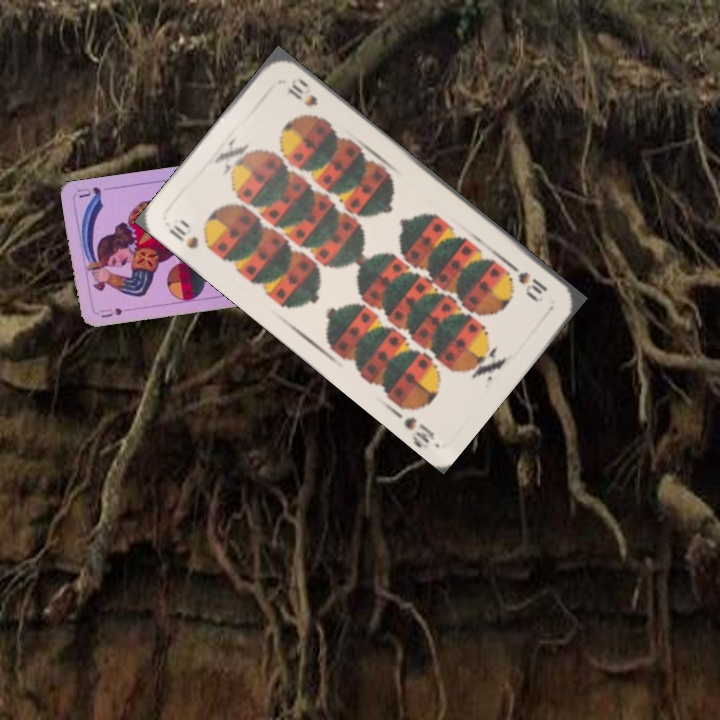S10: (505, 259, 551, 303), (164, 220, 201, 252)
SU: (96, 304, 125, 320)
